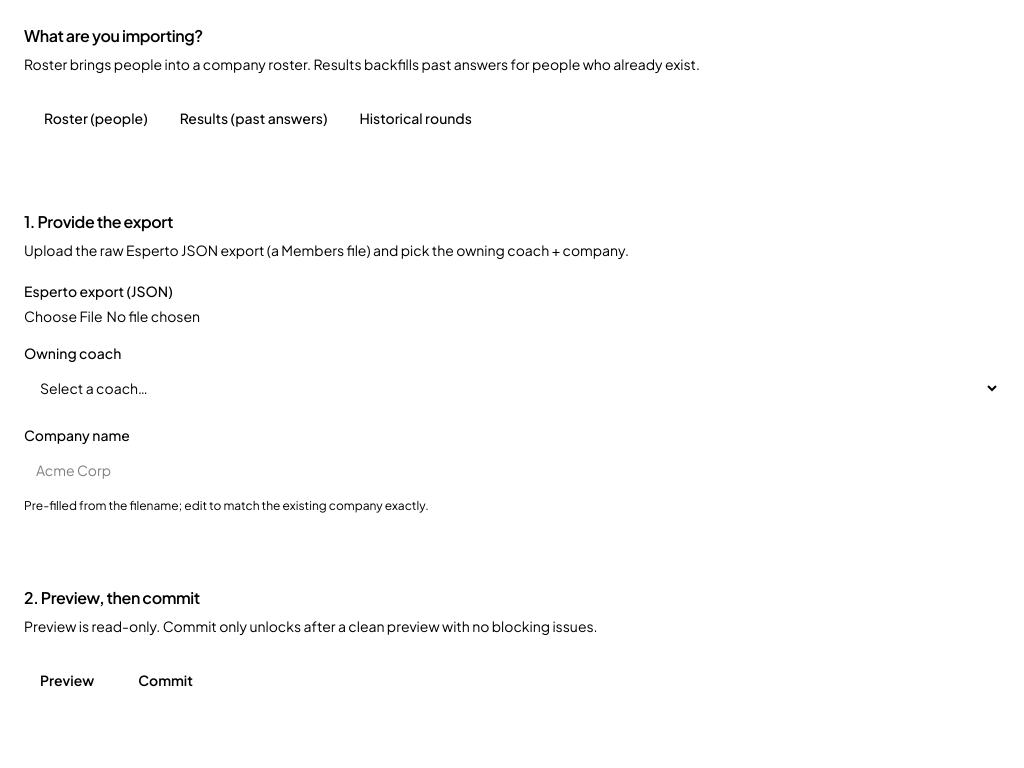
Test case: EspertoImportClient — restrictedResults (Wave O SU-Full) › renders the Historical rounds kind button when suFullImportEnabled is true, and selecting it swaps in the round-label/org/multi-file UI
Click the radio button labelled "Historical rounds".
click(416, 118)  # box [344,102,488,134]
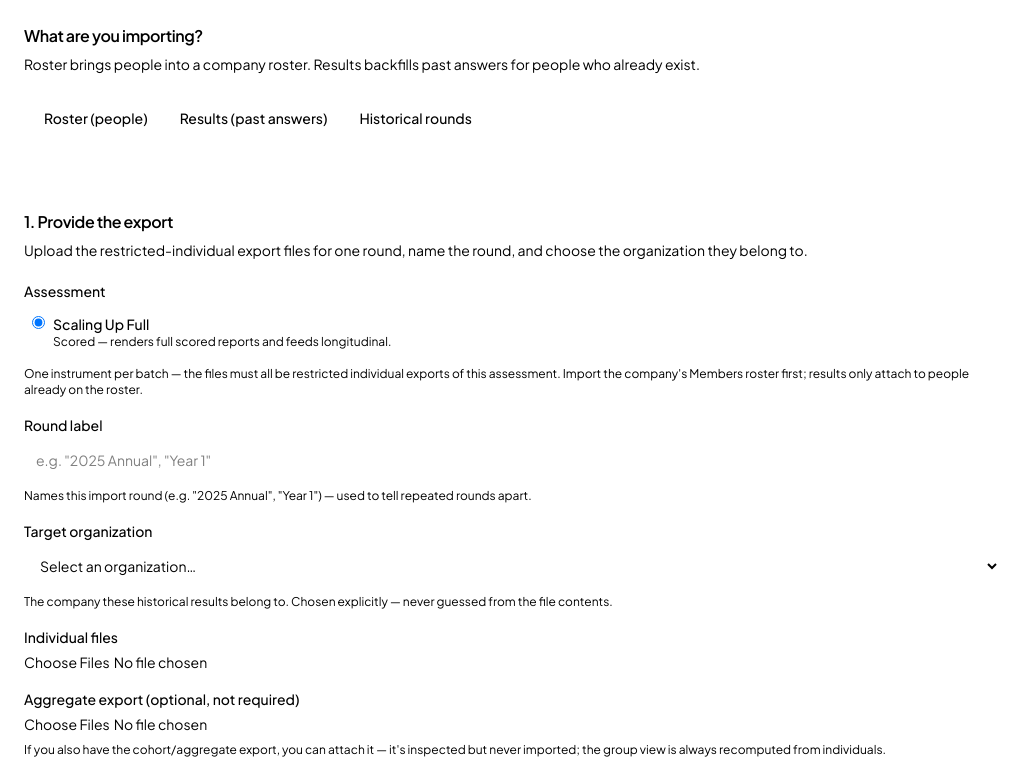
Check: the field labelled "Round label" is shown, box [24,440,1000,480]
Check: the dropdown labelled "Target organization" is shown, box [24,546,1000,586]
Check: the file field labelled "Individual files" is shown, box [24,652,1000,672]
